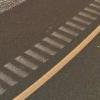Crosswalk: (7, 18, 100, 74)
